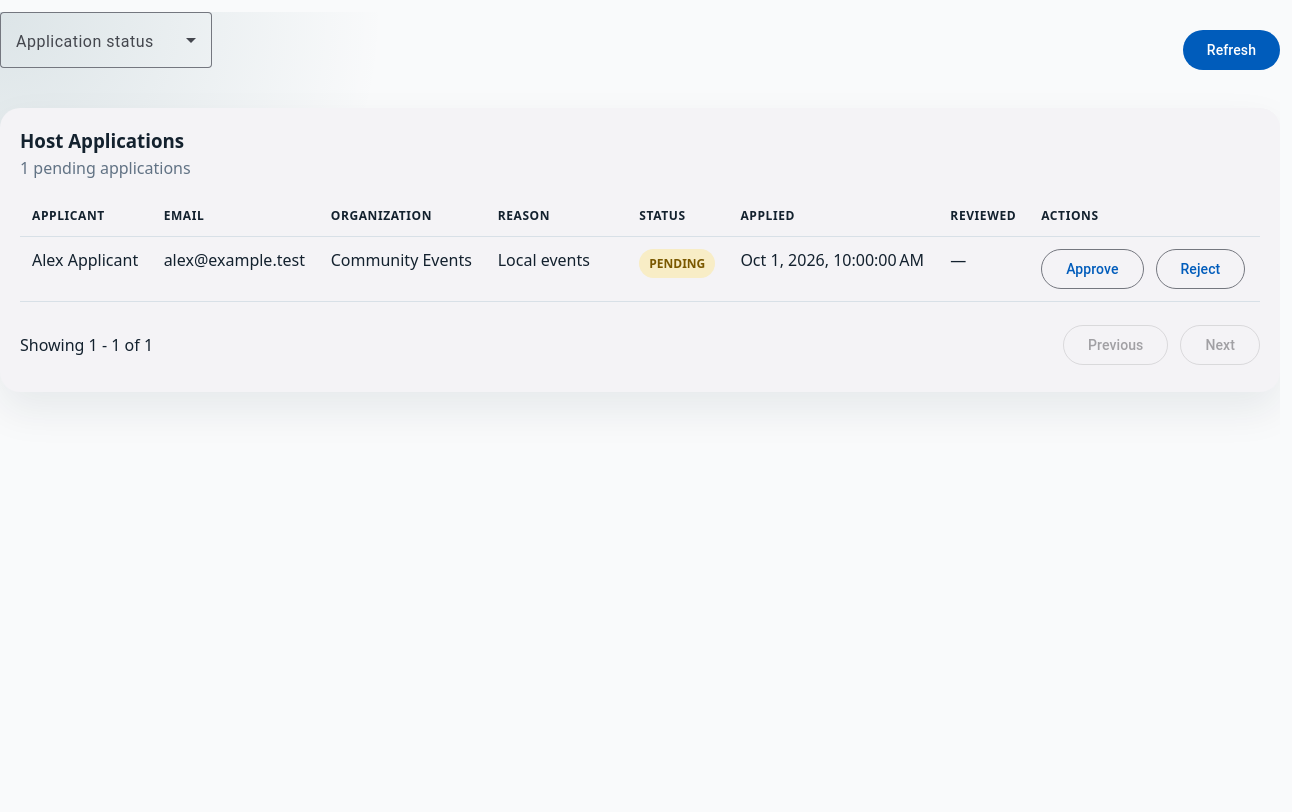
it: host application review › asks for a rejection reason and sends only the trimmed reason to the reject endpoint
Click the button "Reject". click: (1200, 269)
box: [1156,249,1245,289]
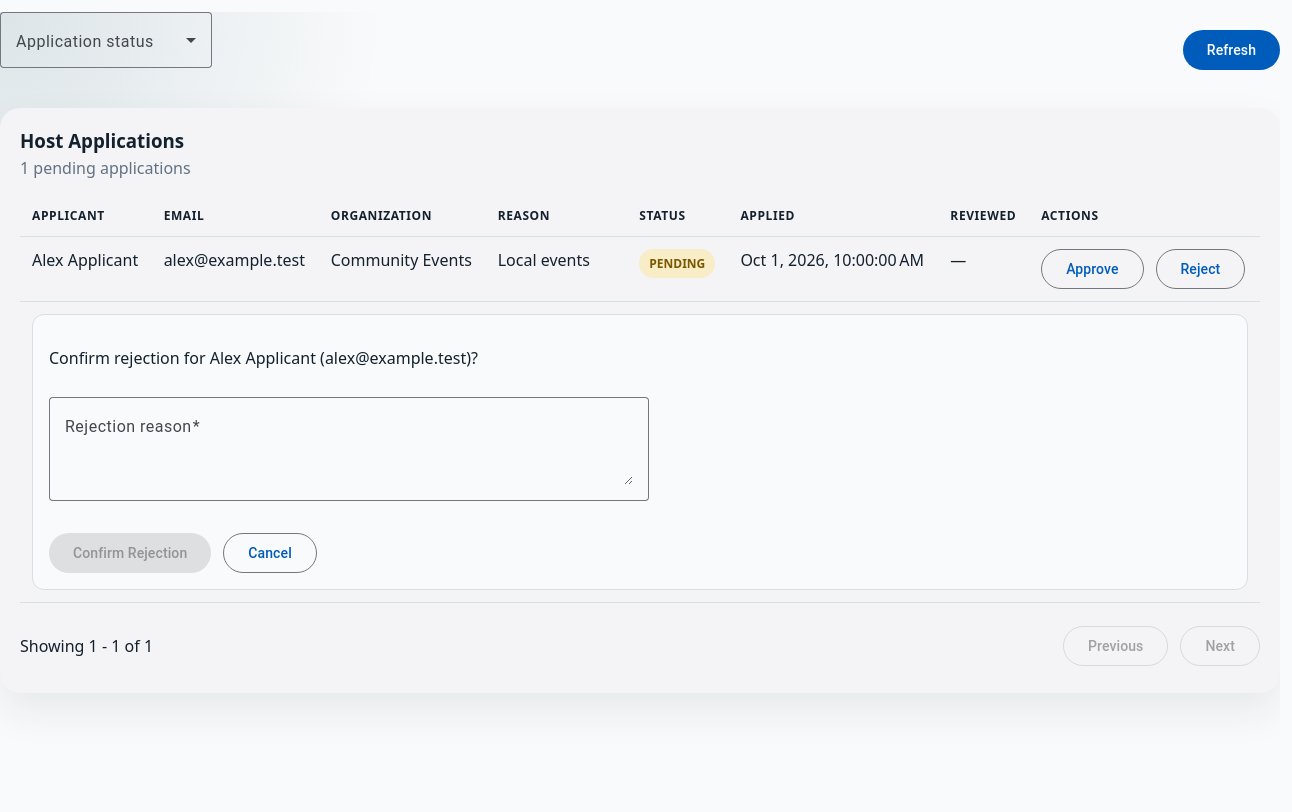
Type "  Need more information  " into the text box labelled "Rejection reason". click: (349, 449)
box: [65,413,633,485]
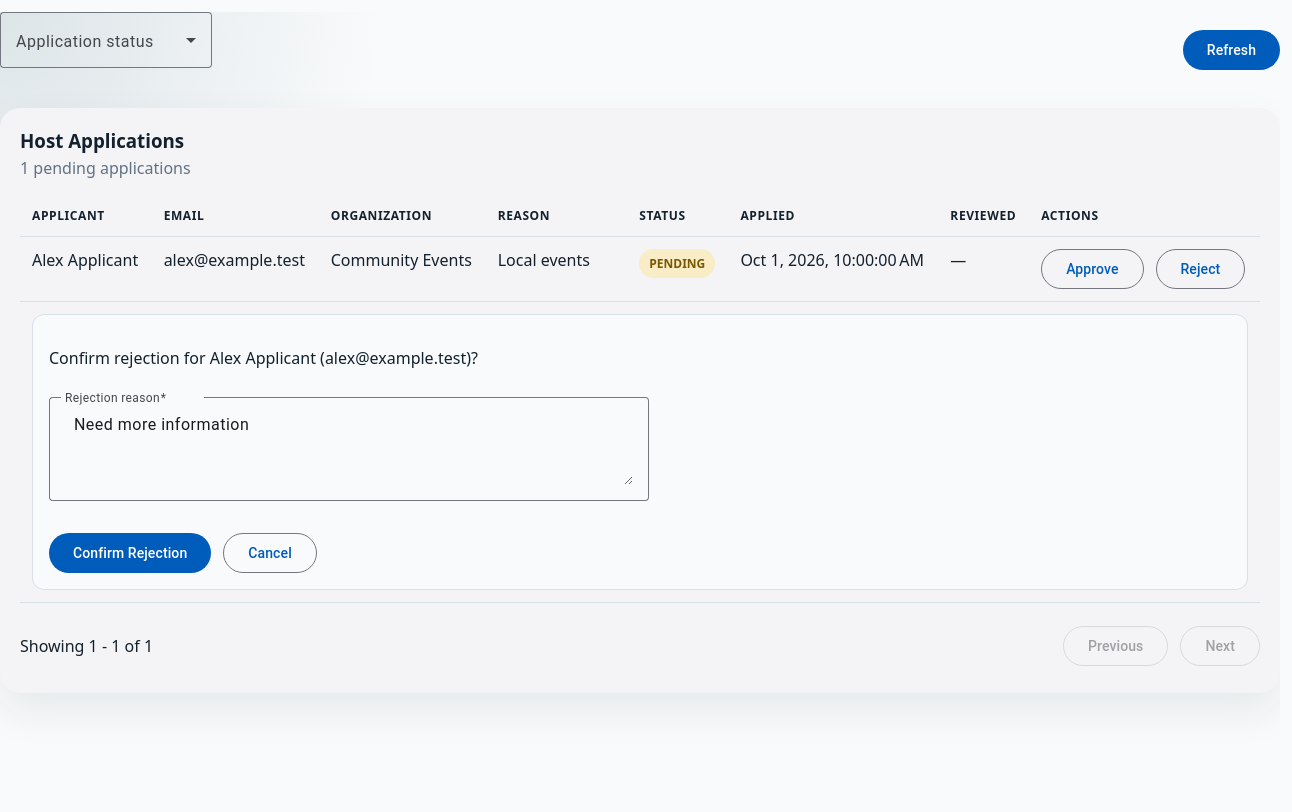
Now the form with class "review-form" is shown
Submit the form with class "review-form", box [32,314,1248,590]
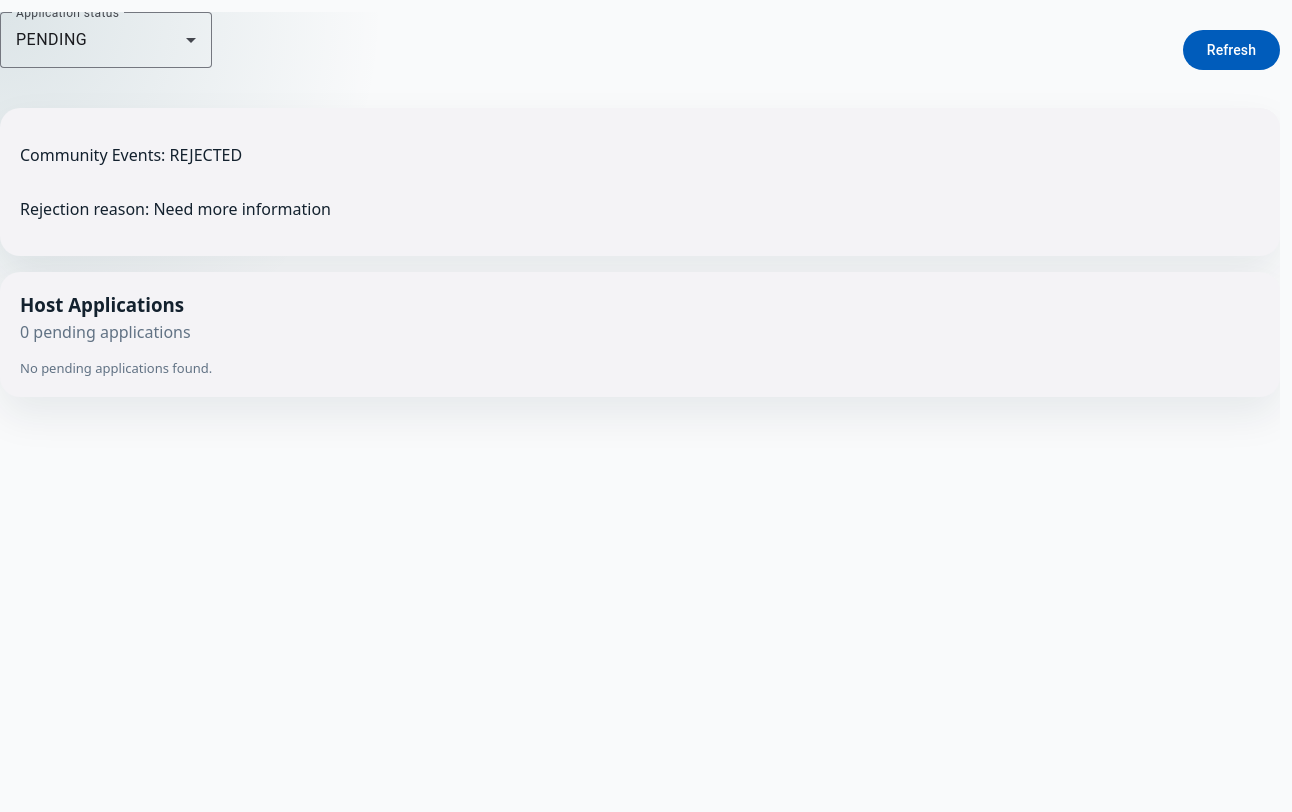
Now the text "REJECTED" is shown, box [20,144,242,166]
Now the text "Rejection reason: Need more information" is shown, box [20,198,340,220]
